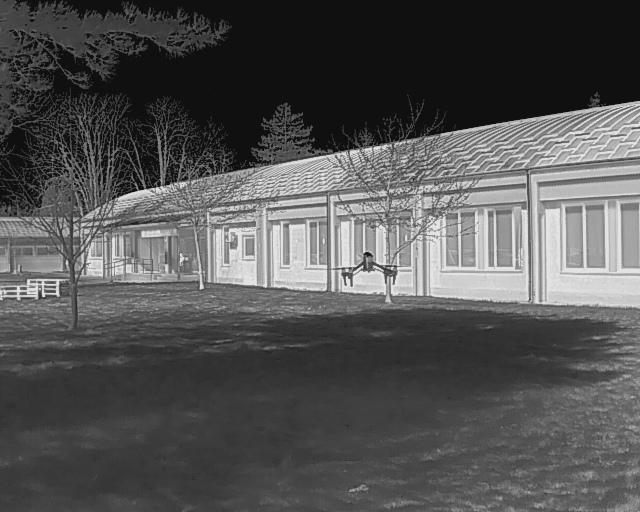drone: (328, 248, 408, 291)
